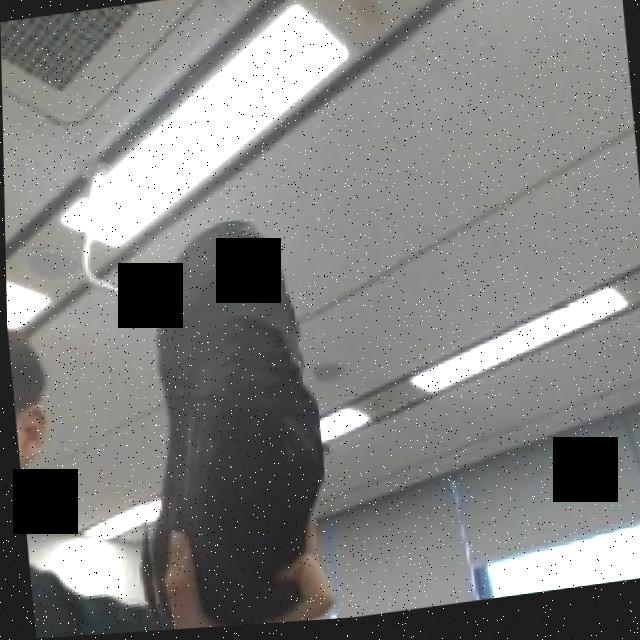shoe: (109, 212, 334, 634)
